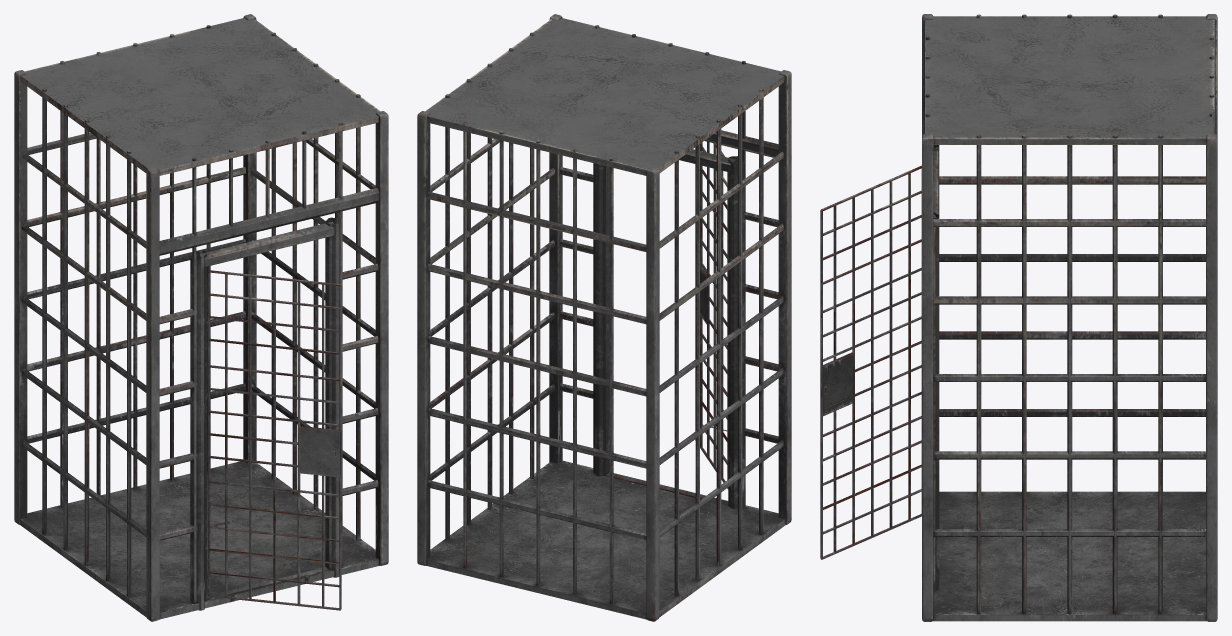
Rendered from kafes_asansörü.fbx.
The picture shows the model from 3 angles, left to right: view 1: azimuth 30°, elevation 25°; view 2: azimuth 150°, elevation 25°; view 3: azimuth 270°, elevation 25°; orthographic projection. The views are drawn at different scales.
Parts seen in each view (by area): view 1: roof_GEO, bars_GEO, polls_GEO, gate_GEO, door_frame_GEO; view 2: roof_GEO, bars_GEO, polls_GEO, door_frame_GEO, gate_GEO; view 3: roof_GEO, bars_GEO, gate_GEO, polls_GEO, door_frame_GEO.
Part boxes in pixels (x1,y1,x2,y2): roof_GEO: (20, 18, 380, 619); bars_GEO: (22, 25, 379, 604); polls_GEO: (14, 14, 388, 621); gate_GEO: (207, 270, 341, 610); door_frame_GEO: (190, 217, 340, 610); roof_GEO: (425, 18, 785, 619); bars_GEO: (427, 25, 783, 604); polls_GEO: (417, 14, 791, 621); door_frame_GEO: (593, 149, 744, 509); gate_GEO: (695, 141, 728, 489); roof_GEO: (925, 16, 1214, 621); bars_GEO: (923, 14, 1213, 614); gate_GEO: (820, 165, 921, 559); polls_GEO: (922, 14, 1217, 621); door_frame_GEO: (933, 145, 939, 591).
Size of the model in its own units: 3392 by 6135 by 4557.
